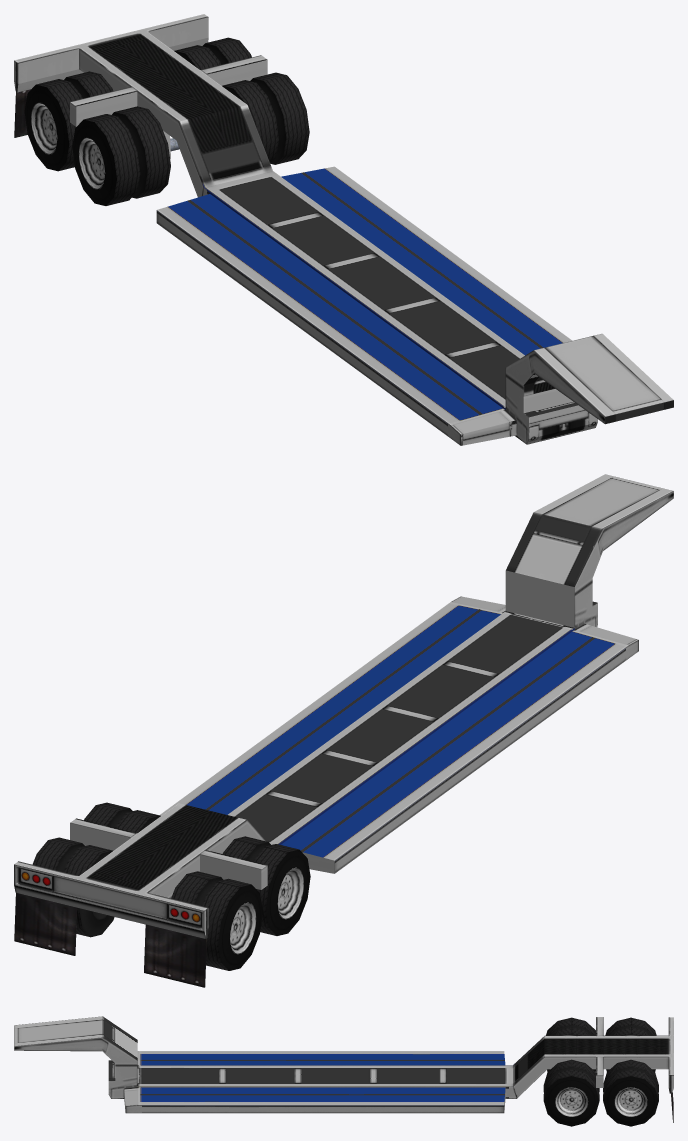
File: Trailer_3.FBX
3 views of the same model, one above another, from view 1: azimuth 30°, elevation 25°; view 2: azimuth 150°, elevation 25°; view 3: azimuth 270°, elevation 25° (orthographic). The views are drawn at different scales.
Parts seen in each view (by area): view 1: Trailer 3, Wheel_BR 2, Wheel_BL 2, Wheel_BR 1, Wheel_BL 1; view 2: Trailer 3, Wheel_BR 1, Wheel_BR 2, Wheel_BL 1, Wheel_BL 2; view 3: Trailer 3, Wheel_BL 1, Wheel_BL 2, Wheel_BR 1, Wheel_BR 2.
Boxes of the visible parts, box(x1,y1,x2,y2) form: Trailer 3: box(14, 14, 673, 445); Wheel_BR 2: box(72, 106, 170, 205); Wheel_BL 2: box(222, 72, 309, 164); Wheel_BR 1: box(24, 71, 113, 171); Wheel_BL 1: box(174, 37, 251, 69); Trailer 3: box(14, 474, 673, 987); Wheel_BR 1: box(171, 871, 262, 970); Wheel_BR 2: box(222, 836, 310, 935); Wheel_BL 1: box(32, 837, 114, 937); Wheel_BL 2: box(84, 802, 160, 833); Trailer 3: box(14, 1016, 673, 1122); Wheel_BL 1: box(603, 1059, 658, 1126); Wheel_BL 2: box(543, 1059, 599, 1126); Wheel_BR 1: box(605, 1017, 656, 1071); Wheel_BR 2: box(546, 1017, 595, 1071).
Bounding box in the file's own units: 104 × 56.85 × 481.
Materials: 1 (1 with a texture image).
